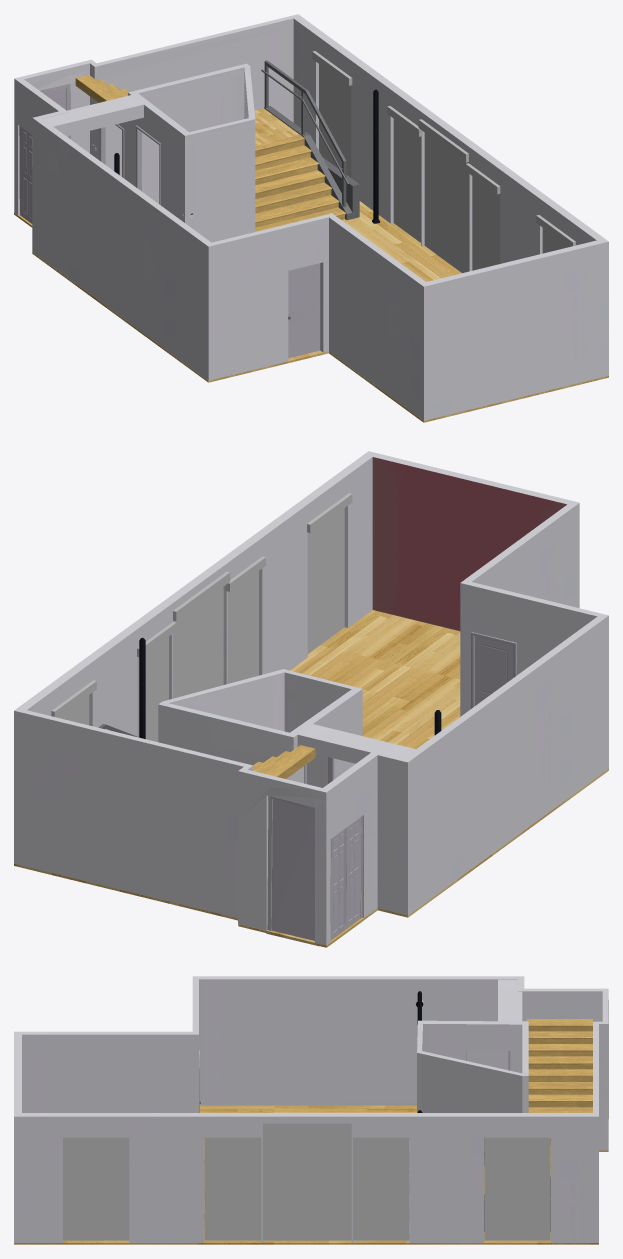
File: frl_apartment_stage.glb
3 views of the same model, one above another, from view 1: azimuth 30°, elevation 25°; view 2: azimuth 150°, elevation 25°; view 3: azimuth 270°, elevation 25° (orthographic). The views are drawn at different scales.
Parts seen in each view (by area): view 1: frl_apartment_wall, frl_apartment_blinds, frl_apartment_stair, frl_apartment_floor, frl_apartment_door_01, frl_apartment_door_05, frl_apartment_pipe, frl_apartment_door_part.004; view 2: frl_apartment_wall, frl_apartment_blinds, frl_apartment_floor, frl_apartment_door_04, frl_apartment_door_01, frl_apartment_door_05, frl_apartment_door_06, frl_apartment_stair, frl_apartment_door_part.002, frl_apartment_pipe; view 3: frl_apartment_wall, frl_apartment_blinds, frl_apartment_stair, frl_apartment_floor.
Part boxes in pixels (x1=…): frl_apartment_wall: x1=14, y1=14, x2=608, y2=420; frl_apartment_blinds: x1=312, y1=51, x2=575, y2=273; frl_apartment_stair: x1=75, y1=60, x2=359, y2=231; frl_apartment_floor: x1=14, y1=201, x2=608, y2=422; frl_apartment_door_01: x1=288, y1=263, x2=319, y2=358; frl_apartment_door_05: x1=21, y1=127, x2=32, y2=223; frl_apartment_pipe: x1=114, y1=89, x2=379, y2=223; frl_apartment_door_part.004: x1=136, y1=125, x2=160, y2=205; frl_apartment_wall: x1=14, y1=451, x2=608, y2=945; frl_apartment_blinds: x1=51, y1=493, x2=352, y2=741; frl_apartment_floor: x1=14, y1=610, x2=608, y2=947; frl_apartment_door_04: x1=271, y1=799, x2=314, y2=940; frl_apartment_door_01: x1=474, y1=636, x2=513, y2=705; frl_apartment_door_05: x1=330, y1=828, x2=346, y2=939; frl_apartment_door_06: x1=346, y1=817, x2=361, y2=928; frl_apartment_stair: x1=98, y1=724, x2=315, y2=778; frl_apartment_door_part.002: x1=266, y1=796, x2=318, y2=946; frl_apartment_pipe: x1=139, y1=637, x2=441, y2=738; frl_apartment_wall: x1=14, y1=976, x2=608, y2=1242; frl_apartment_blinds: x1=63, y1=1123, x2=550, y2=1240; frl_apartment_stair: x1=484, y1=1019, x2=592, y2=1231; frl_apartment_floor: x1=14, y1=1105, x2=608, y2=1244.
Size of the model in its own units: 7.26 by 3.13 by 13.
10 materials, 9 textured.
